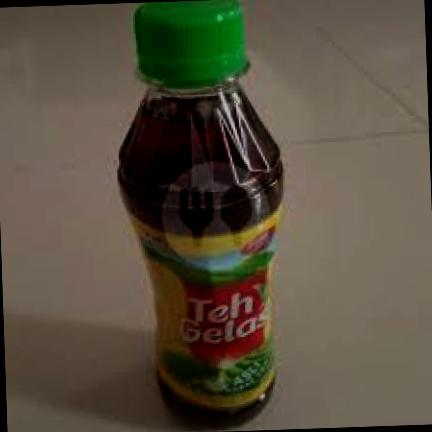container: (119, 0, 282, 412)
fluid: (119, 82, 282, 414), (119, 91, 282, 413), (119, 154, 281, 406)
fluid-surface: (138, 89, 254, 117)
